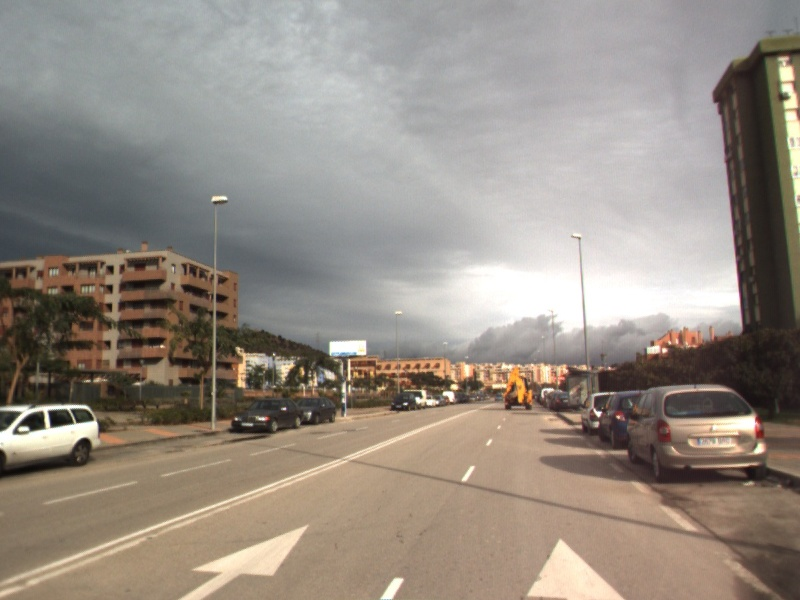STRAIGHT: (172, 522, 311, 600)
